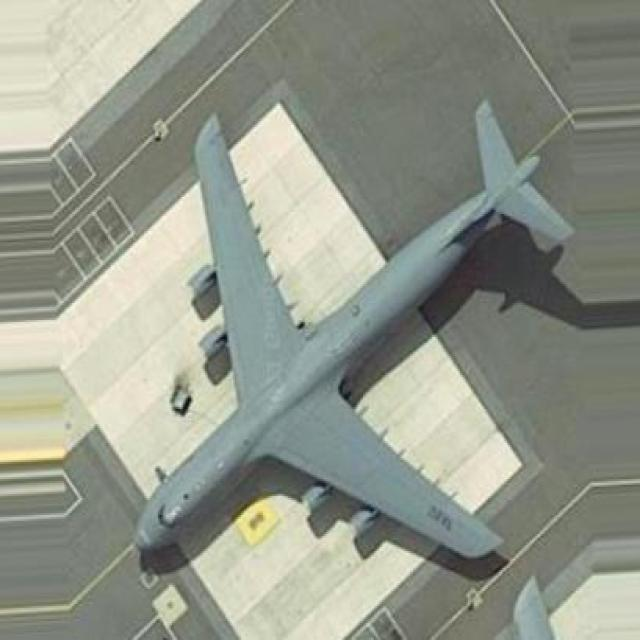C-5_TopDown: (132, 107, 583, 580)
